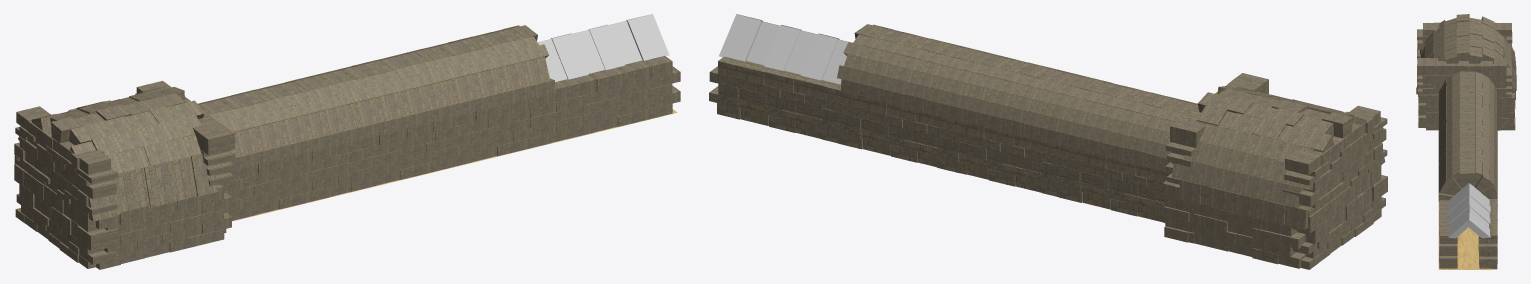
File: documacii_principal_blender_24m.fbx
3 renders of one model, left to right at view 1: azimuth 30°, elevation 25°; view 2: azimuth 150°, elevation 25°; view 3: azimuth 270°, elevation 25°, orthographic. The views are drawn at different scales.
Visible parts, largest first — view 1: Wall.012, Wall.009, Wall.018, Wall.015, Wall.011, Wall.003, Wall.007, Wall.001, Wall.020, Wall.017, Wall.013, Wall.005 (+1 smaller); view 2: Wall.012, Wall.009, Wall.018, Wall.015, Wall.010, Wall.019, Wall.016, Wall.007, Wall.006, Wall.014, Wall.004, Wall.005 (+2 smaller); view 3: Wall.012, Wall.009, Wall.008, Wall.015, Wall.018, Wall.002, Plane.002, Wall.011, Wall.014, Wall.010, Wall.013, Wall.007 (+1 smaller).
Boxes of the visible parts, x1,y1,x2,y2 form: Wall.012: [14, 87, 218, 221]; Wall.009: [391, 25, 555, 115]; Wall.018: [294, 48, 458, 145]; Wall.015: [197, 78, 337, 171]; Wall.011: [548, 56, 680, 142]; Wall.003: [96, 184, 231, 269]; Wall.007: [14, 106, 117, 216]; Wall.001: [426, 93, 556, 166]; Wall.020: [330, 117, 454, 195]; Wall.017: [227, 146, 338, 220]; Wall.013: [538, 14, 669, 81]; Wall.005: [14, 164, 117, 268]; Wall.012: [1171, 86, 1385, 229]; Wall.009: [837, 24, 1002, 123]; Wall.018: [938, 48, 1100, 146]; Wall.015: [1060, 77, 1197, 173]; Wall.010: [709, 56, 840, 143]; Wall.019: [929, 114, 1060, 197]; Wall.016: [1051, 144, 1170, 222]; Wall.007: [1283, 105, 1387, 216]; Wall.006: [831, 91, 966, 174]; Wall.014: [719, 14, 848, 84]; Wall.004: [1165, 186, 1305, 268]; Wall.005: [1292, 164, 1387, 269]; Wall.012: [1416, 14, 1516, 99]; Wall.009: [1438, 134, 1497, 201]; Wall.008: [1417, 58, 1511, 98]; Wall.015: [1438, 71, 1497, 132]; Wall.018: [1438, 105, 1497, 169]; Wall.002: [1420, 93, 1515, 130]; Plane.002: [1438, 202, 1493, 269]; Wall.011: [1439, 200, 1457, 268]; Wall.014: [1468, 183, 1490, 238]; Wall.010: [1478, 199, 1497, 269]; Wall.013: [1448, 183, 1469, 238]; Wall.007: [1417, 22, 1512, 59].
Bounding box in the file's own units: 2436 × 460 × 561.
